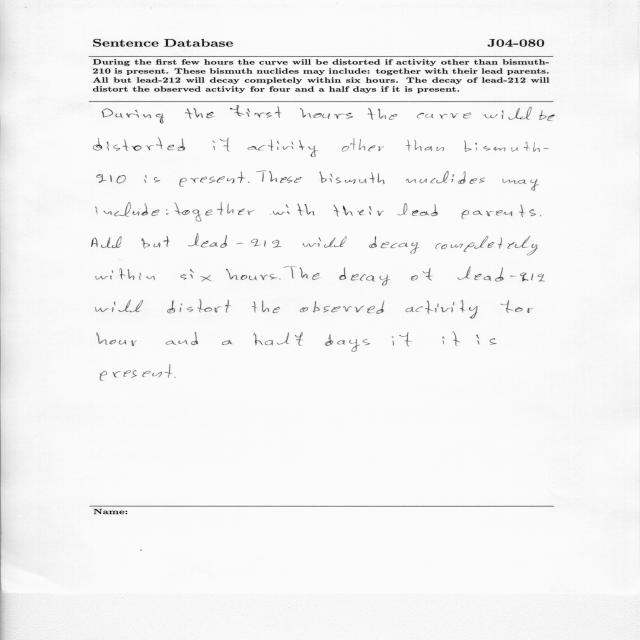word: (435, 236, 538, 256), (174, 203, 255, 222), (188, 233, 281, 248), (405, 300, 478, 319), (457, 267, 545, 282), (100, 364, 173, 381), (247, 140, 318, 157), (94, 138, 185, 151), (300, 300, 384, 314), (461, 204, 536, 219), (406, 171, 485, 184), (179, 172, 246, 187), (96, 202, 160, 217), (464, 141, 549, 152), (103, 109, 165, 124), (339, 268, 390, 286), (369, 236, 419, 254), (167, 300, 231, 314), (320, 172, 385, 185), (325, 334, 370, 352), (96, 268, 155, 280), (254, 332, 304, 346), (230, 105, 282, 118), (484, 107, 532, 120), (333, 205, 384, 217), (96, 300, 144, 312), (226, 269, 277, 280), (97, 332, 137, 346), (341, 138, 384, 151), (256, 171, 302, 183), (302, 236, 347, 248), (397, 203, 438, 216), (270, 204, 314, 216), (284, 266, 321, 280), (500, 300, 534, 313), (166, 332, 199, 345), (406, 140, 444, 151), (502, 179, 539, 190), (180, 270, 212, 282), (142, 236, 170, 249), (92, 236, 122, 248), (368, 108, 397, 120), (252, 301, 280, 313), (417, 113, 471, 119), (185, 108, 213, 119), (392, 332, 412, 347), (411, 268, 432, 281), (97, 175, 126, 184), (442, 332, 460, 346), (313, 113, 353, 119), (213, 138, 230, 151), (477, 334, 497, 345), (539, 110, 555, 121), (144, 175, 160, 183), (300, 108, 312, 118), (222, 340, 233, 345), (166, 210, 169, 215), (248, 181, 250, 183), (279, 279, 281, 280), (174, 377, 176, 378), (540, 215, 541, 216)
